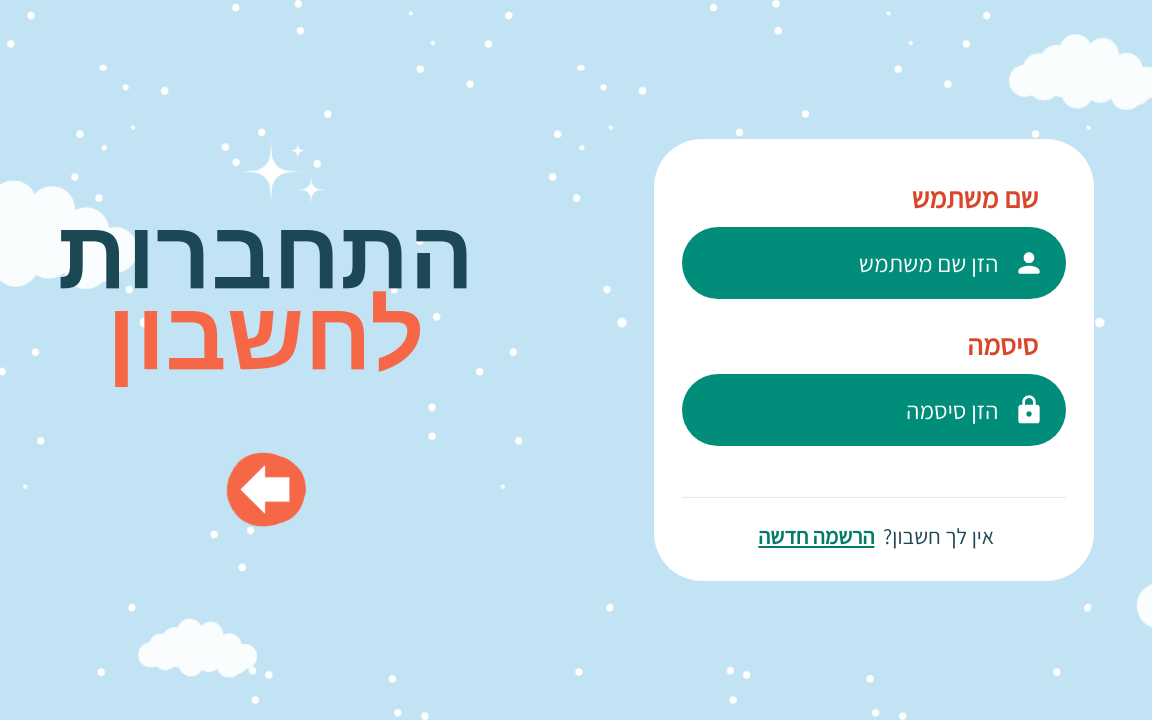
Test: registration shows duplicate username error inside the modal
This screenshot has width=1152, height=720.
Click the button "הרשמה חדשה": (816, 536) x1=754 y1=516 x2=878 y2=557
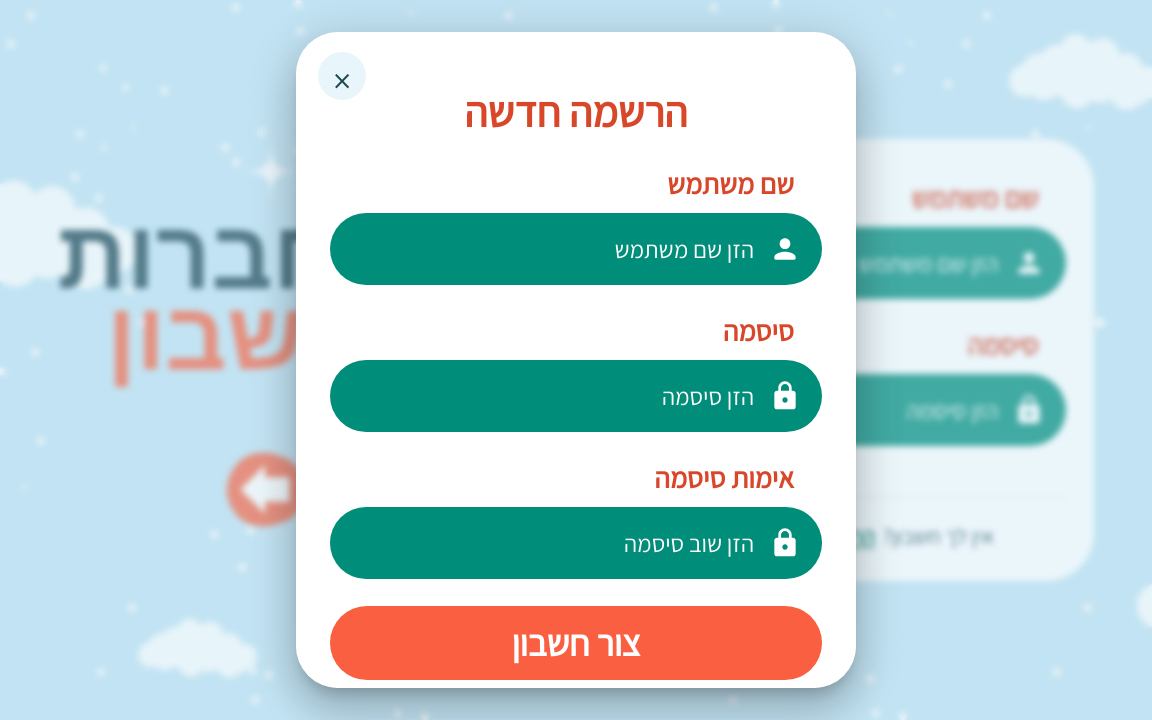
In the field labelled "שם משתמש": (576, 249) x1=330 y1=213 x2=822 y2=285, type "Maya"
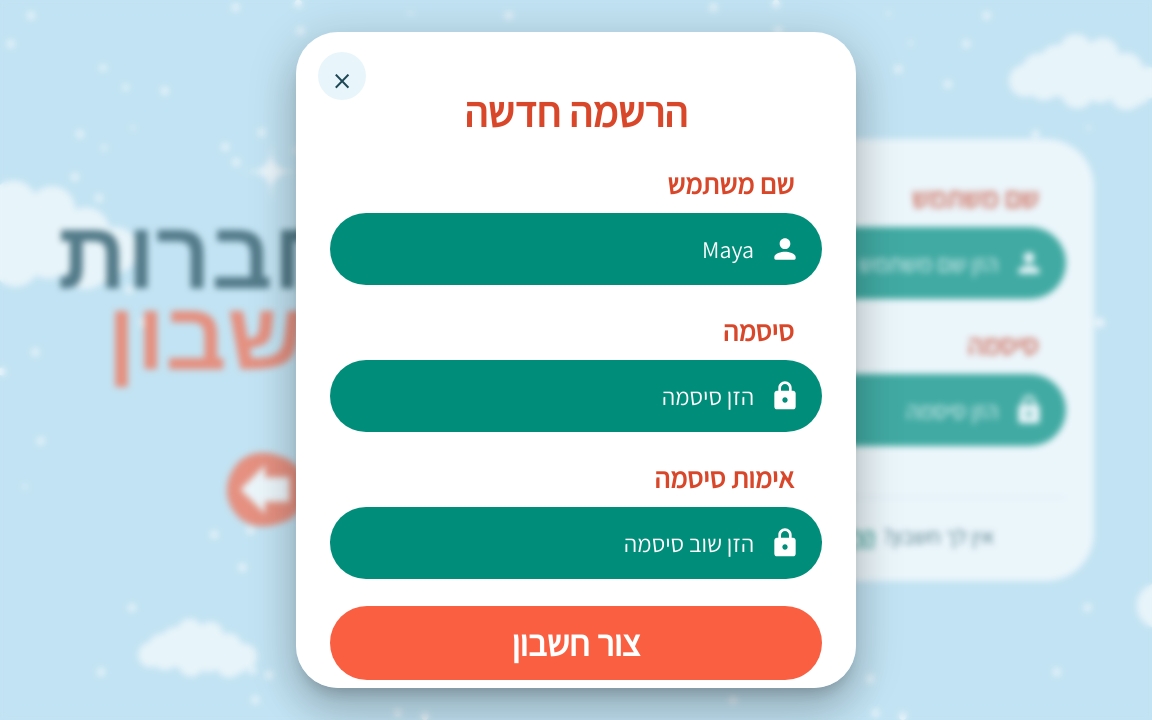
In the password field labelled "סיסמה": (576, 396) x1=330 y1=360 x2=822 y2=432, type "secret123"
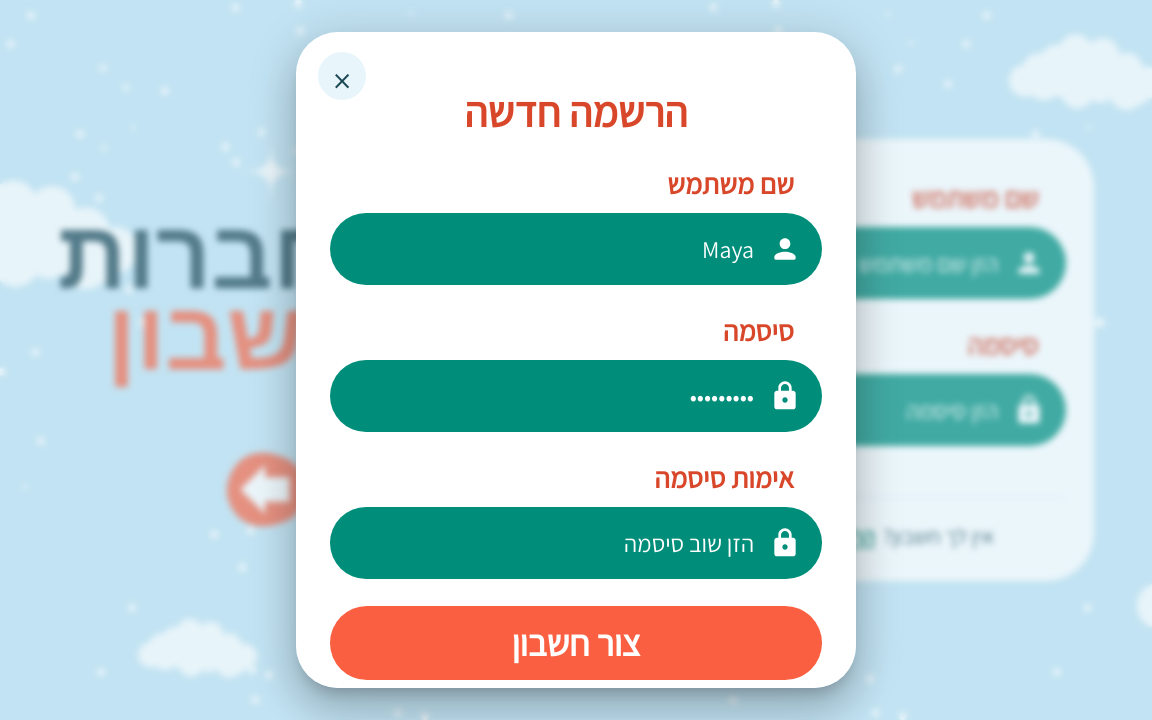
In the password field labelled "אימות סיסמה": (576, 543) x1=330 y1=507 x2=822 y2=579, type "secret123"
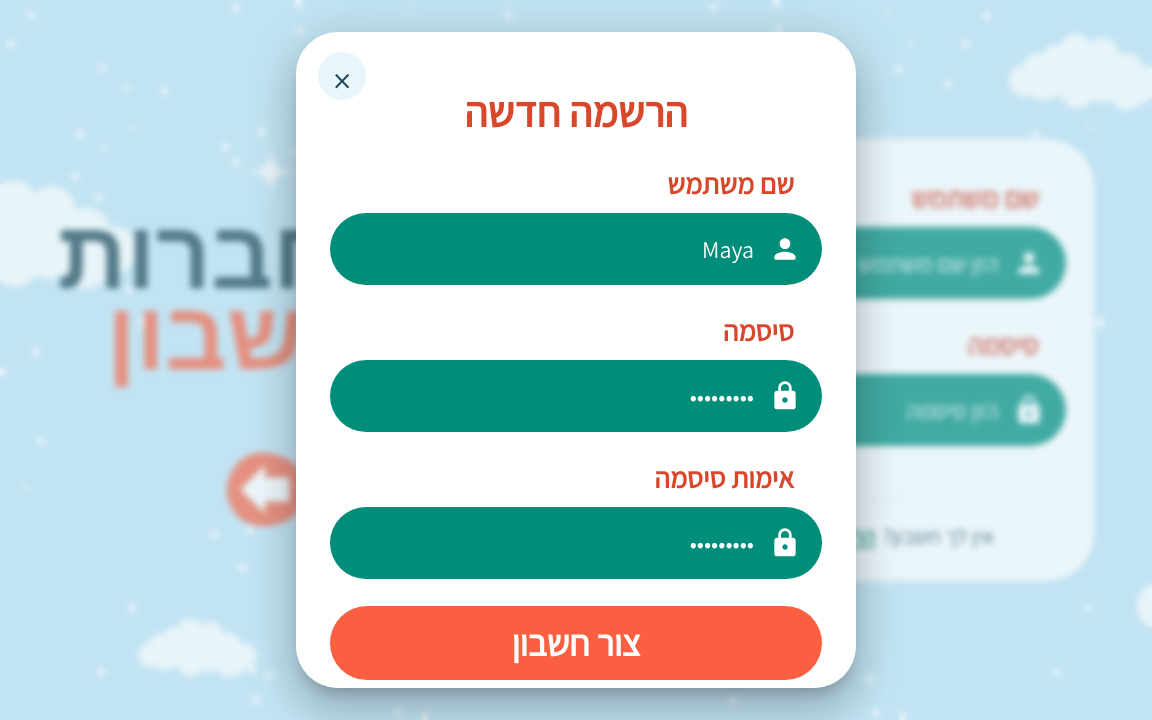
Click the button "צור חשבון": (576, 643) x1=330 y1=606 x2=822 y2=680
(page scrolled)
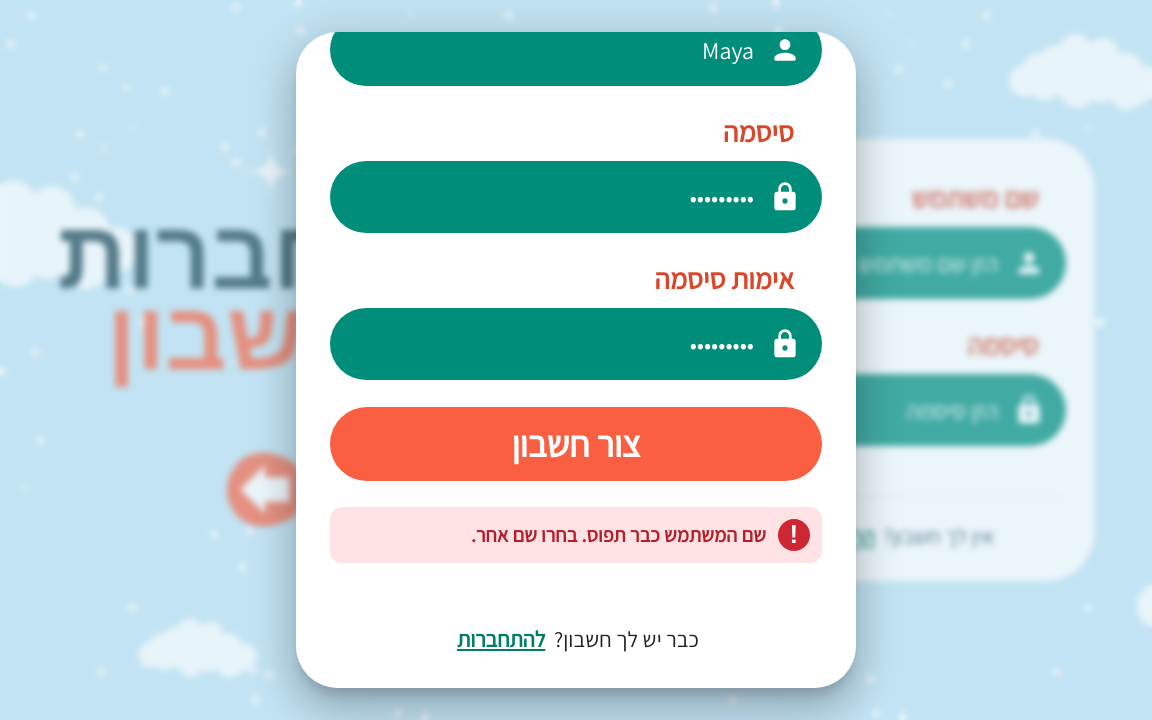
Result: the message shows "שם המשתמש כבר תפוס" at x1=471 y1=522 x2=766 y2=548
